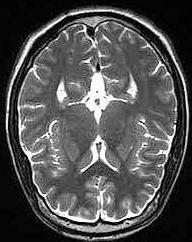Normal_Brain: (1, 1, 192, 242)
